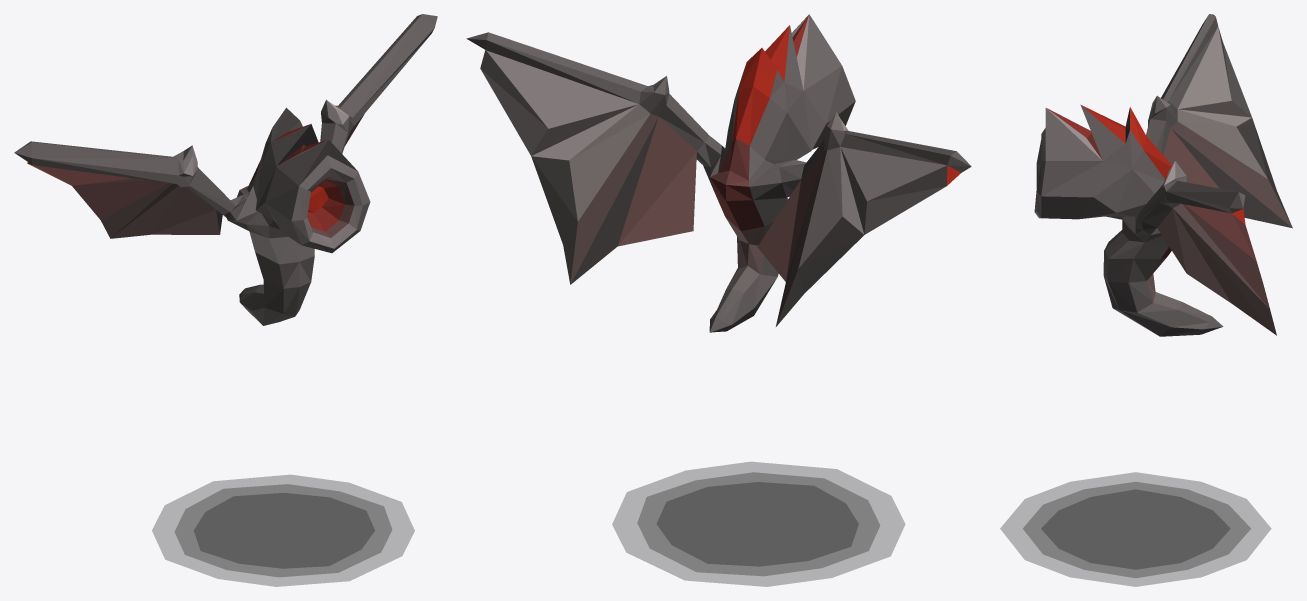
File: bat.glb
3 renders of one model, left to right at view 1: azimuth 30°, elevation 25°; view 2: azimuth 150°, elevation 25°; view 3: azimuth 270°, elevation 25°, orthographic. The views are drawn at different scales.
Size of the model in its own units: 222 by 210 by 129.
Materials: 2 (2 with a texture image).
